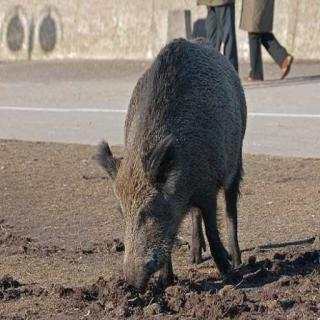Pig: (70, 28, 260, 304)
